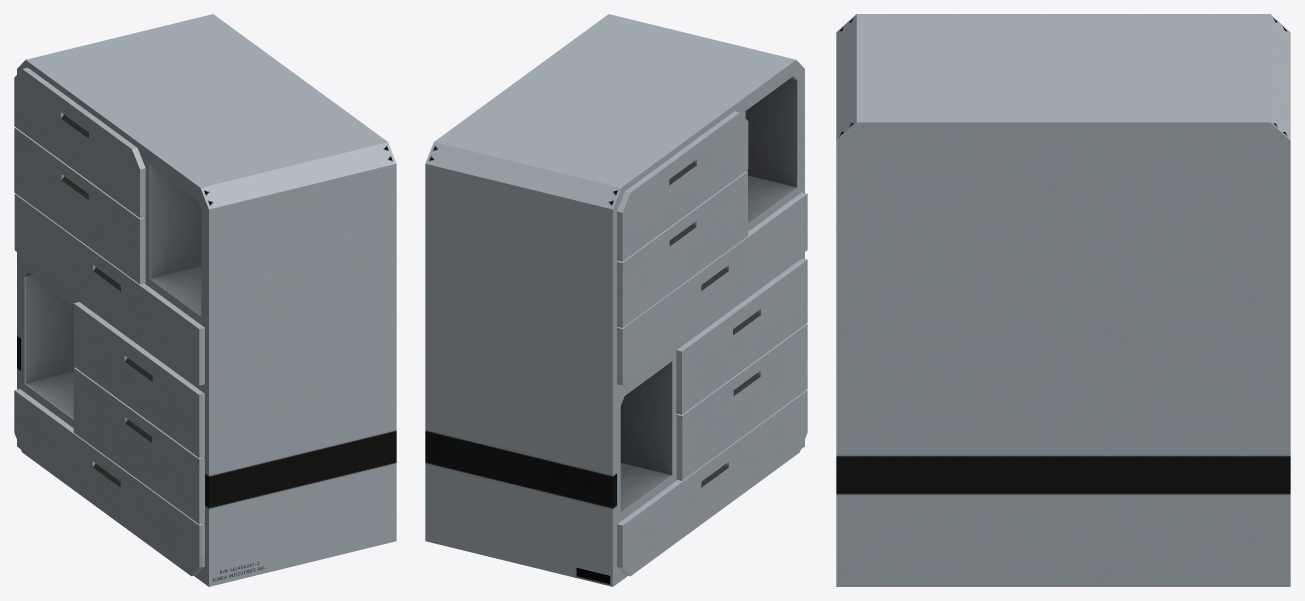
The picture shows the model from 3 angles, left to right: view 1: azimuth 30°, elevation 25°; view 2: azimuth 150°, elevation 25°; view 3: azimuth 270°, elevation 25°; orthographic projection. The views are drawn at different scales.
Visible parts, largest first — view 1: ChestSwap, Drawer3_3, Drawer6_6, Drawer4_4, Drawer1_1, Drawer5_5, Drawer2_2; view 2: ChestSwap, Drawer3_3, Drawer6_6, Drawer4_4, Drawer1_1, Drawer5_5, Drawer2_2; view 3: ChestSwap.
Boxes of the visible parts, x1,y1,x2,y2 form: ChestSwap: [17, 14, 396, 586]; Drawer3_3: [14, 193, 204, 385]; Drawer6_6: [14, 389, 204, 576]; Drawer4_4: [73, 302, 204, 457]; Drawer1_1: [14, 67, 145, 218]; Drawer5_5: [73, 367, 204, 524]; Drawer2_2: [14, 127, 145, 284]; ChestSwap: [425, 14, 804, 586]; Drawer3_3: [617, 192, 807, 385]; Drawer6_6: [617, 390, 807, 576]; Drawer4_4: [676, 258, 807, 414]; Drawer1_1: [617, 111, 748, 261]; Drawer5_5: [676, 324, 807, 480]; Drawer2_2: [617, 171, 747, 327]; ChestSwap: [836, 14, 1290, 586].
Bounding box in the file's own units: 0.8627 × 1.67 × 1.48.
7 materials, 7 textured.
